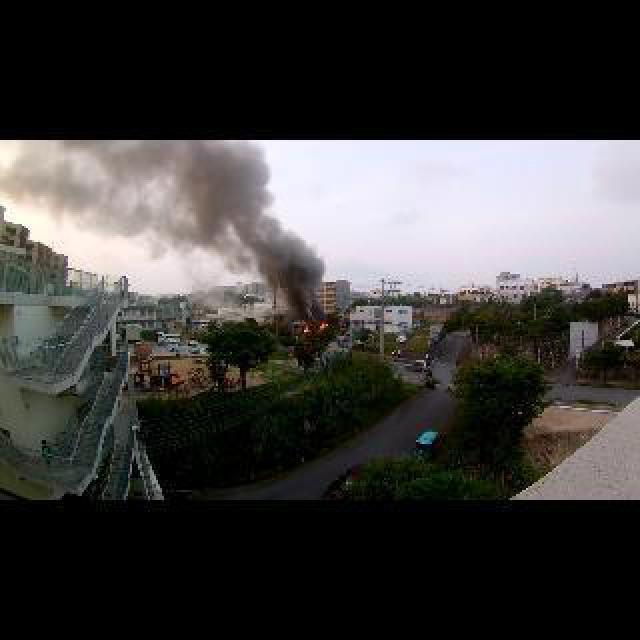Fire: (318, 322, 328, 330), (304, 326, 310, 332)
Smoke: (6, 139, 272, 248), (212, 224, 335, 312)
